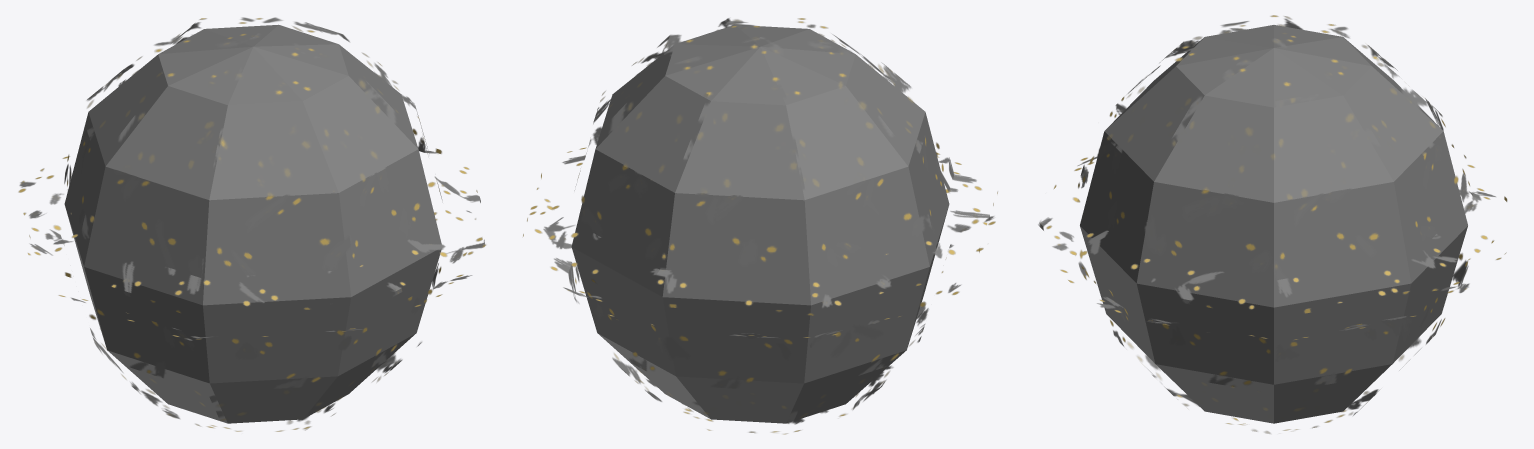
File: VERIVERY_01.glb
3 views of the same model, side by side, from view 1: azimuth 30°, elevation 25°; view 2: azimuth 150°, elevation 25°; view 3: azimuth 270°, elevation 25° (orthographic).
Parts seen in each view (by area): view 1: VERIVERY_01; view 2: VERIVERY_01; view 3: VERIVERY_01.
Boxes of the visible parts, x1=… form: VERIVERY_01: x1=18, y1=17, x2=485, y2=431; VERIVERY_01: x1=523, y1=18, x2=997, y2=434; VERIVERY_01: x1=1038, y1=15, x2=1507, y2=433.
Size of the model in its own units: 0.2539 by 0.2112 by 0.2539.
1 material, 1 textured.
